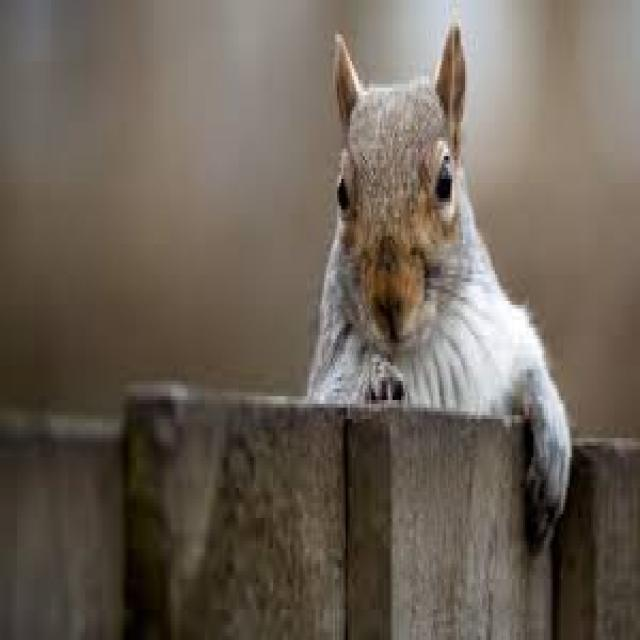Squirrel: (316, 26, 568, 524)
